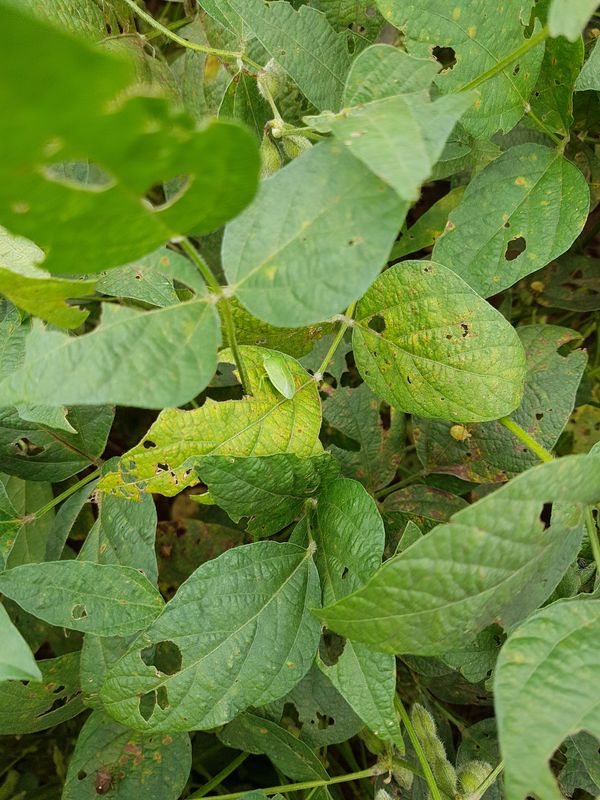Euschistus_heros_adulto: (91, 768, 117, 798), (156, 541, 175, 562)
Euschistus_heros_ninfa: (445, 420, 475, 446), (527, 279, 548, 300)
Nezara_viridula_adulto: (248, 347, 305, 407)
